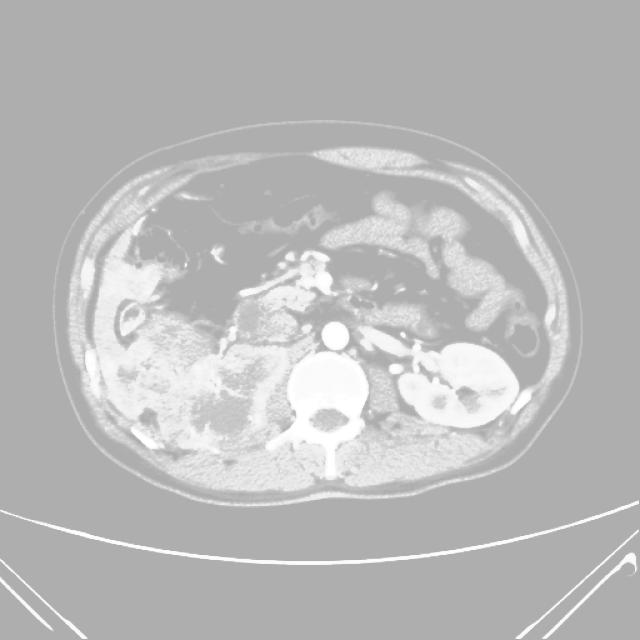TUMOR: (82, 218, 550, 429)
